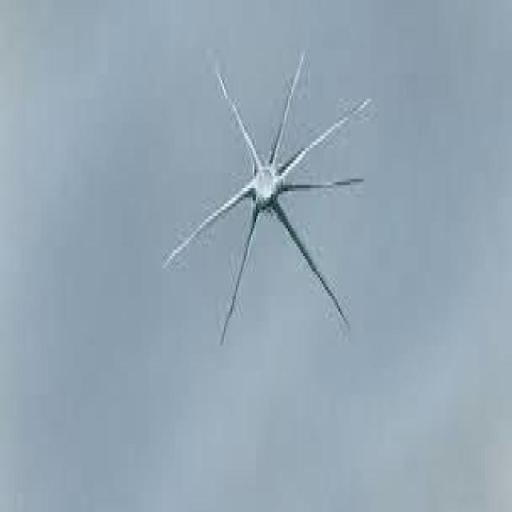glass: (149, 40, 402, 346)
